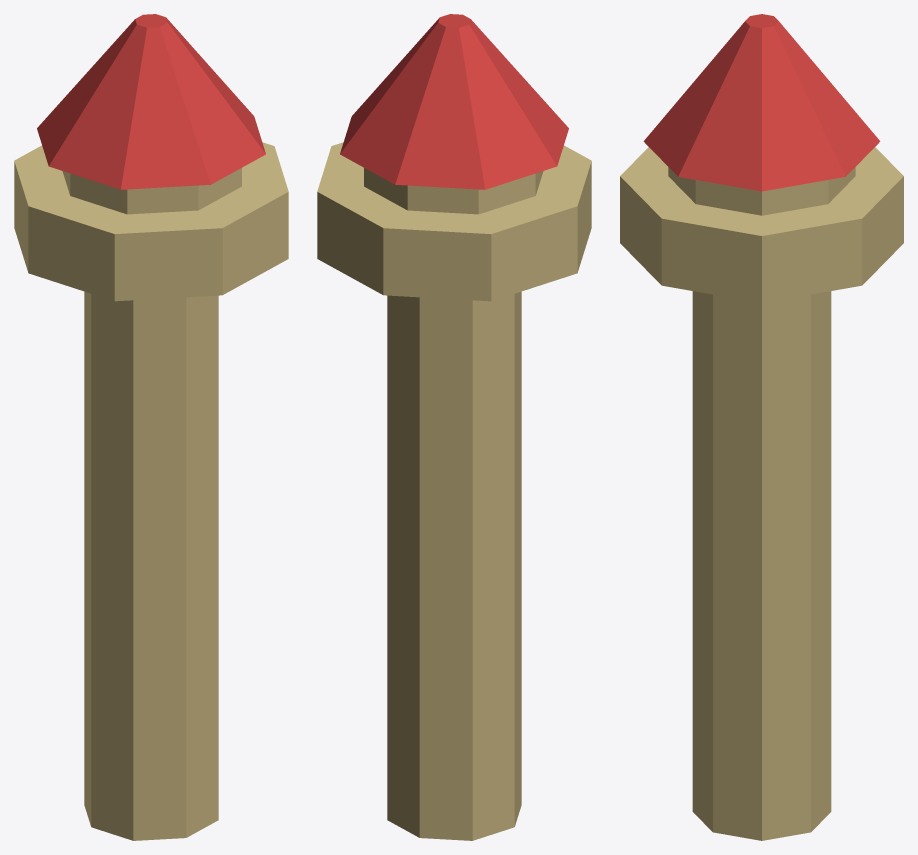
The model's file is tower1.fbx.
3 views of the same model, side by side, from view 1: azimuth 30°, elevation 25°; view 2: azimuth 150°, elevation 25°; view 3: azimuth 270°, elevation 25° (orthographic).
Visible parts, largest first — view 1: Cube; view 2: Cube; view 3: Cube.
Boxes of the visible parts, x1,y1,x2,y2 form: Cube: (14, 14, 288, 840); Cube: (317, 14, 591, 840); Cube: (620, 14, 903, 840).
Size of the model in its own units: 410 by 1259 by 410.
